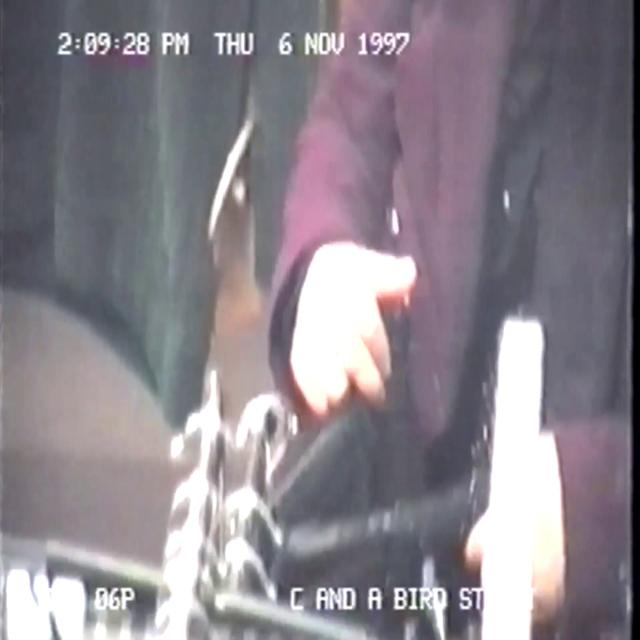normal: (274, 0, 630, 640)
